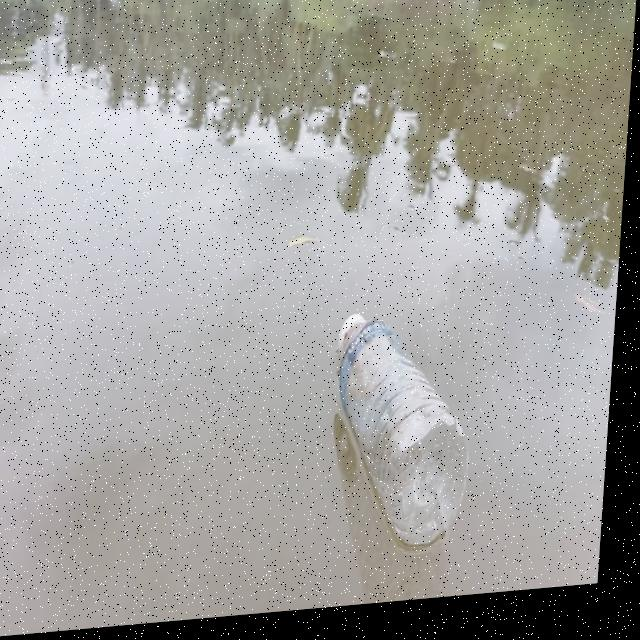waterbottle: (297, 298, 496, 606)
